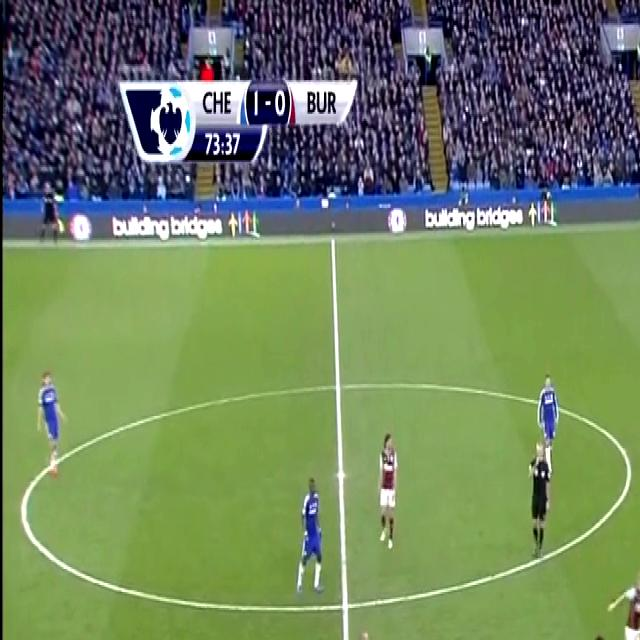referee: (526, 438, 558, 569), (38, 174, 66, 253)
soccer-player: (290, 471, 332, 605), (372, 416, 409, 555), (36, 359, 71, 486), (600, 554, 640, 640), (536, 362, 564, 462), (344, 620, 391, 640), (559, 629, 614, 640)
